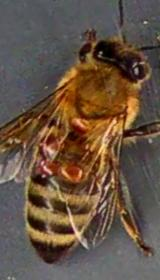varroa_mite: (56, 158, 88, 185), (36, 159, 64, 185), (65, 109, 90, 136)
